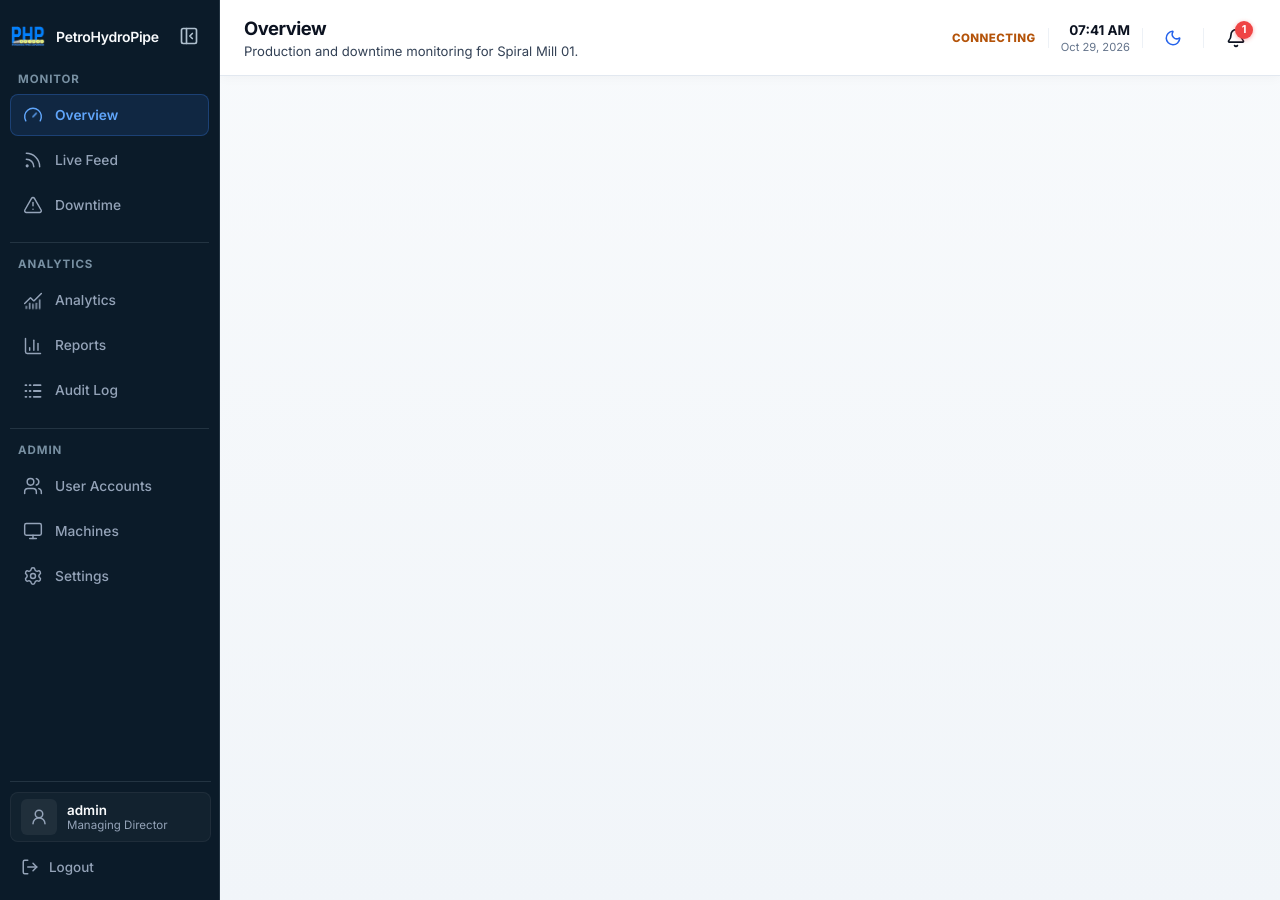
Scenario: AdminDashboard alerts › reconciles an SSE alert received before the pending full list resolves
Click the button named "open alerts, 1 active" at (1236, 38), box [1216,18,1256,58]
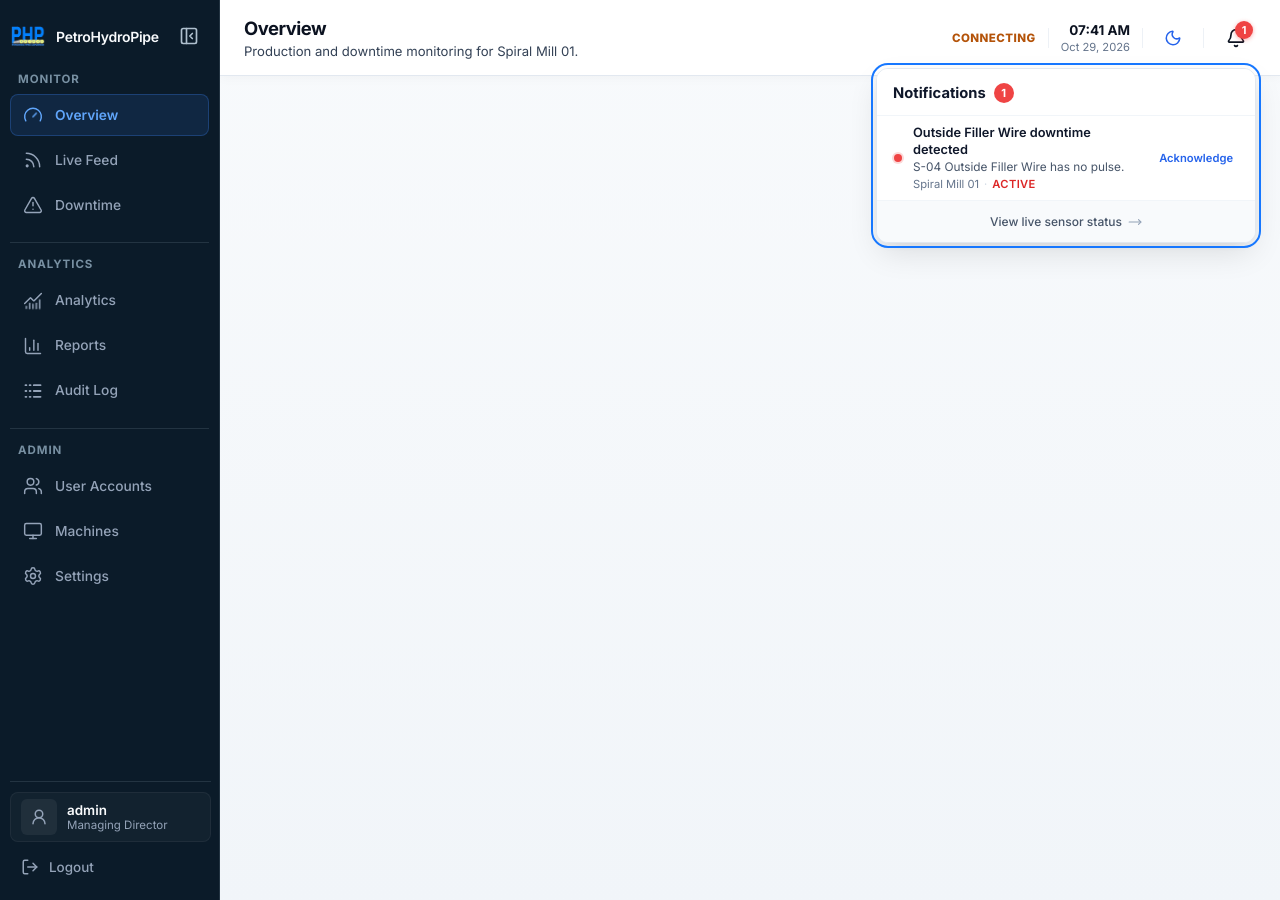
Expected: the text "S-04 Outside Filler Wire has no pulse." is shown, [913,160,1141,175]
